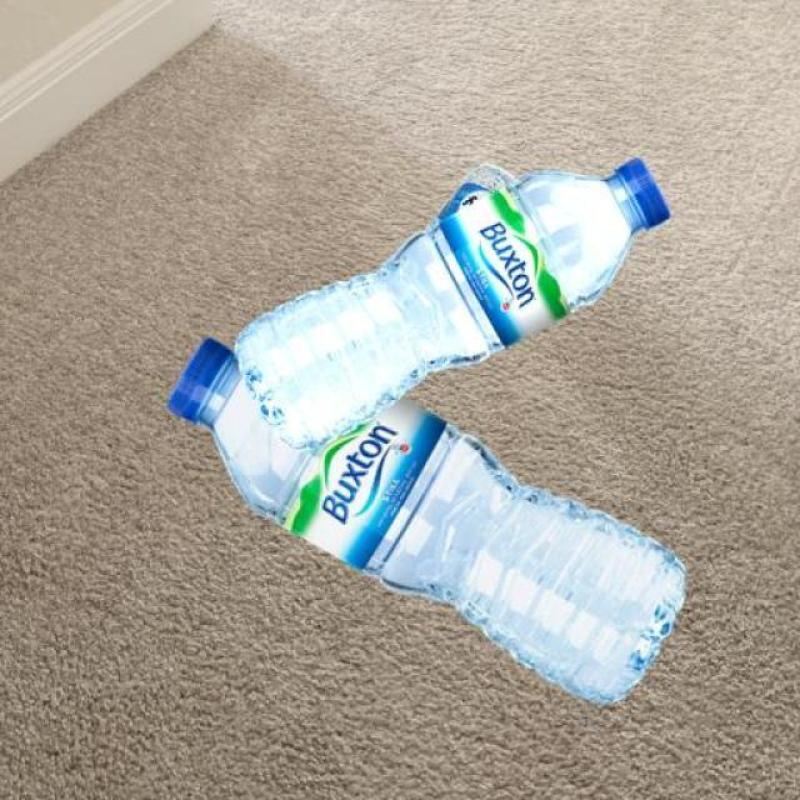botella: (165, 335, 690, 704), (229, 160, 673, 451), (422, 164, 517, 231)
